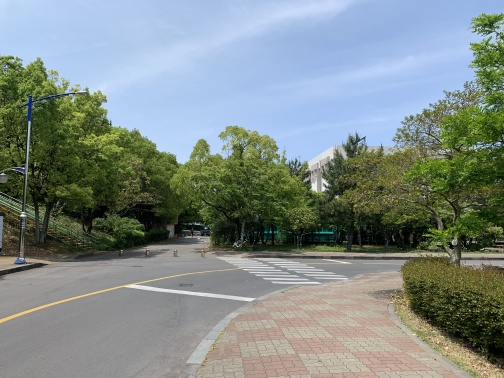Ara Hall: (238, 214, 354, 249)
